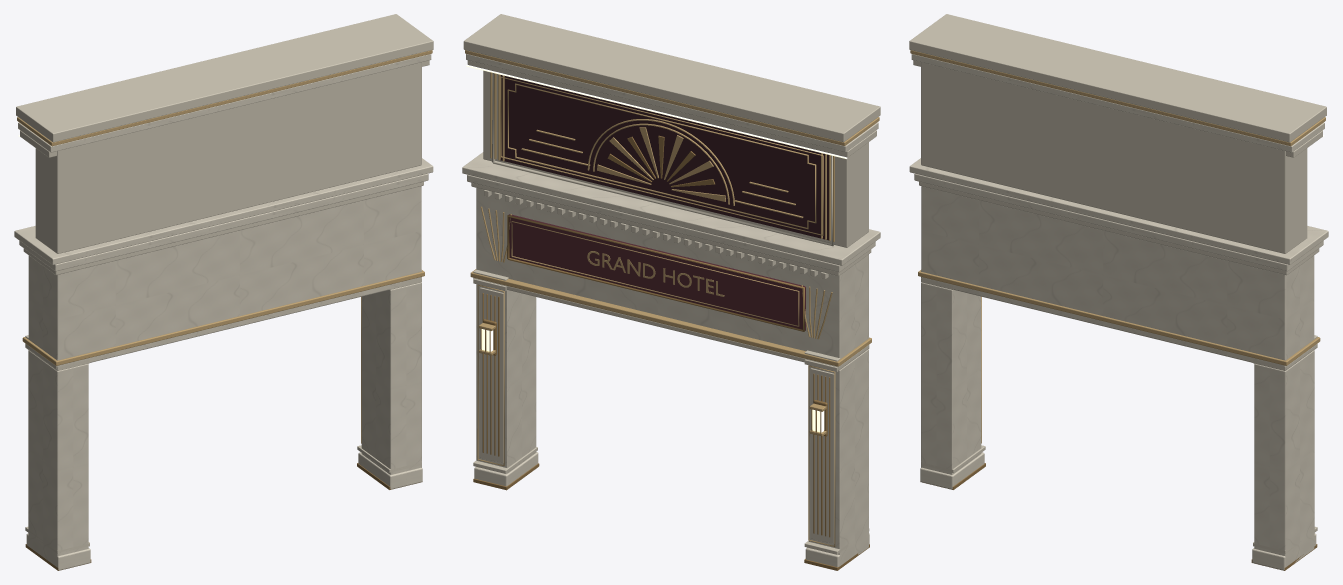
The model's file is hotel-entry-portal.glb.
3 views of the same model, side by side, from view 1: azimuth 30°, elevation 25°; view 2: azimuth 150°, elevation 25°; view 3: azimuth 330°, elevation 25° (orthographic).
Parts seen in each view (by area): view 1: Entry portal / Entry ivory marble, Entry portal / Entry carved limestone, Entry portal / Entry champagne brass; view 2: Entry portal / Entry ivory marble, Entry portal / Entry carved limestone, Entry portal / Entry deep oxblood reveals, Entry portal / Entry champagne brass, Entry portal / Entry smoky oxblood lacquer, Entry portal / Entry aged bronze, Entry portal / Entry warm opal; view 3: Entry portal / Entry ivory marble, Entry portal / Entry carved limestone, Entry portal / Entry champagne brass.
Part boxes in pixels (x1=…): Entry portal / Entry ivory marble: x1=14, y1=54, x2=433, y2=570; Entry portal / Entry carved limestone: x1=16, y1=14, x2=433, y2=553; Entry portal / Entry champagne brass: x1=17, y1=50, x2=432, y2=443; Entry portal / Entry ivory marble: x1=462, y1=54, x2=880, y2=567; Entry portal / Entry carved limestone: x1=463, y1=14, x2=880, y2=554; Entry portal / Entry deep oxblood reveals: x1=500, y1=75, x2=828, y2=240; Entry portal / Entry champagne brass: x1=465, y1=50, x2=879, y2=546; Entry portal / Entry smoky oxblood lacquer: x1=509, y1=214, x2=805, y2=330; Entry portal / Entry aged bronze: x1=473, y1=135, x2=869, y2=570; Entry portal / Entry warm opal: x1=466, y1=65, x2=847, y2=432; Entry portal / Entry ivory marble: x1=909, y1=54, x2=1328, y2=570; Entry portal / Entry carved limestone: x1=909, y1=14, x2=1326, y2=553; Entry portal / Entry champagne brass: x1=910, y1=50, x2=1325, y2=443.
Size of the model in its own units: 6.14 by 6.8 by 1.12.
7 materials, 1 textured.
